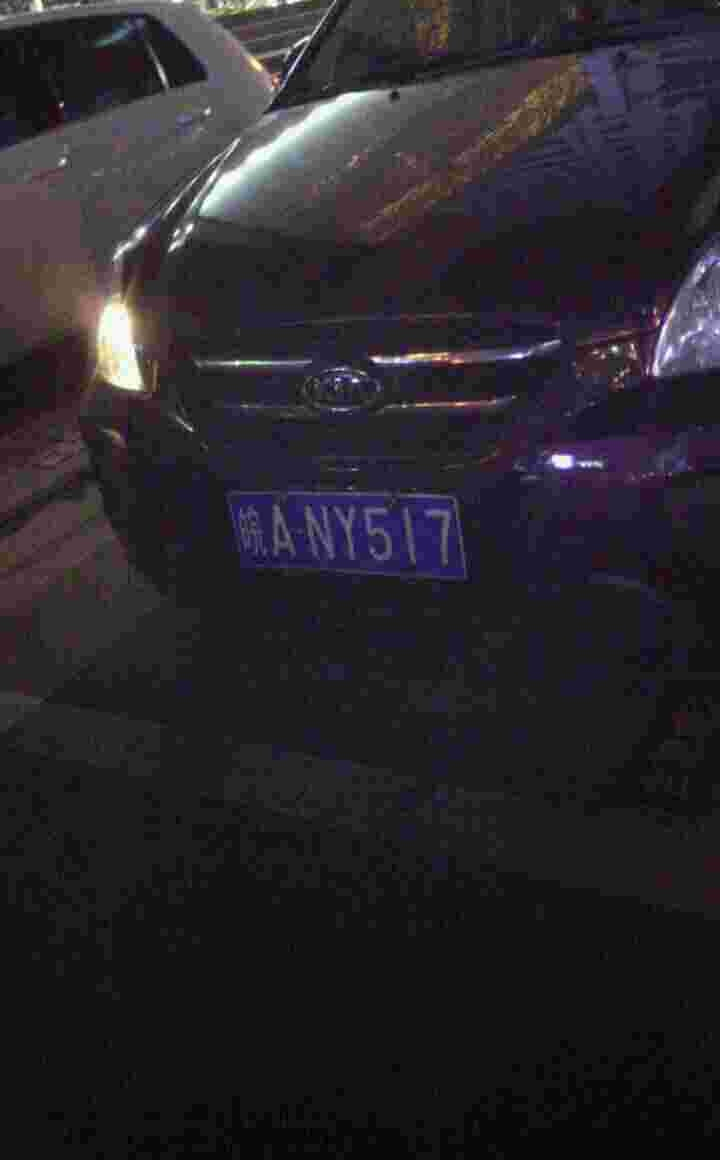plate: (224, 484, 473, 583)
